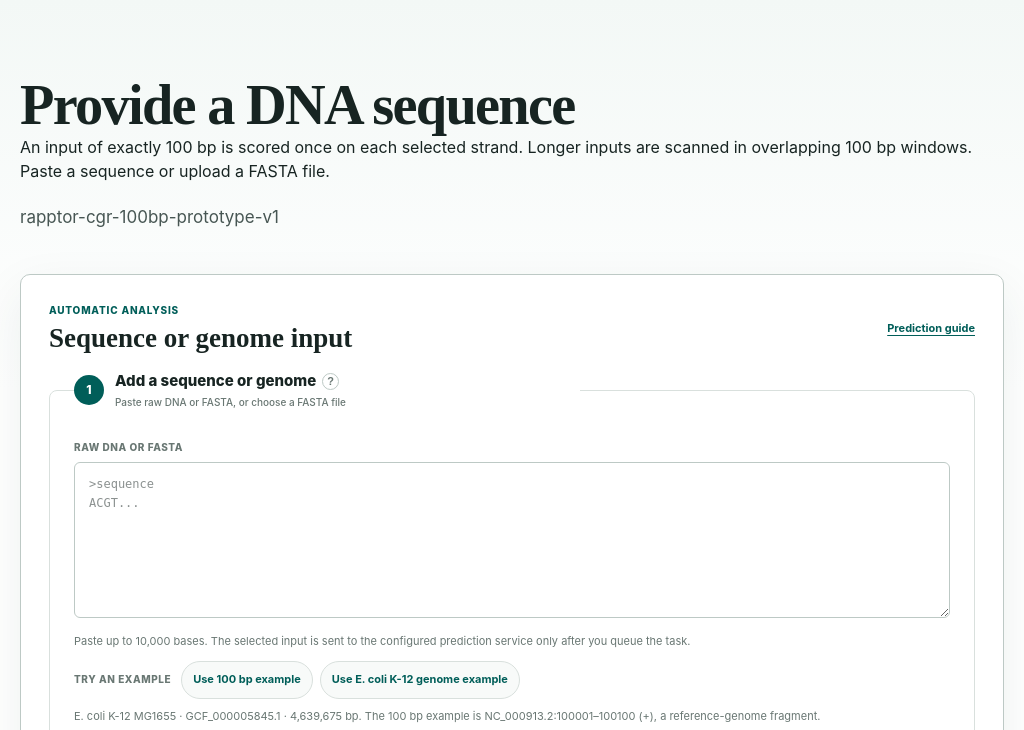
prototype prediction workbench › does not download the complete reference for the 100 bp example
Click the button "Use 100 bp example".
click(247, 680)  # box [181,661,313,699]
(page scrolled)
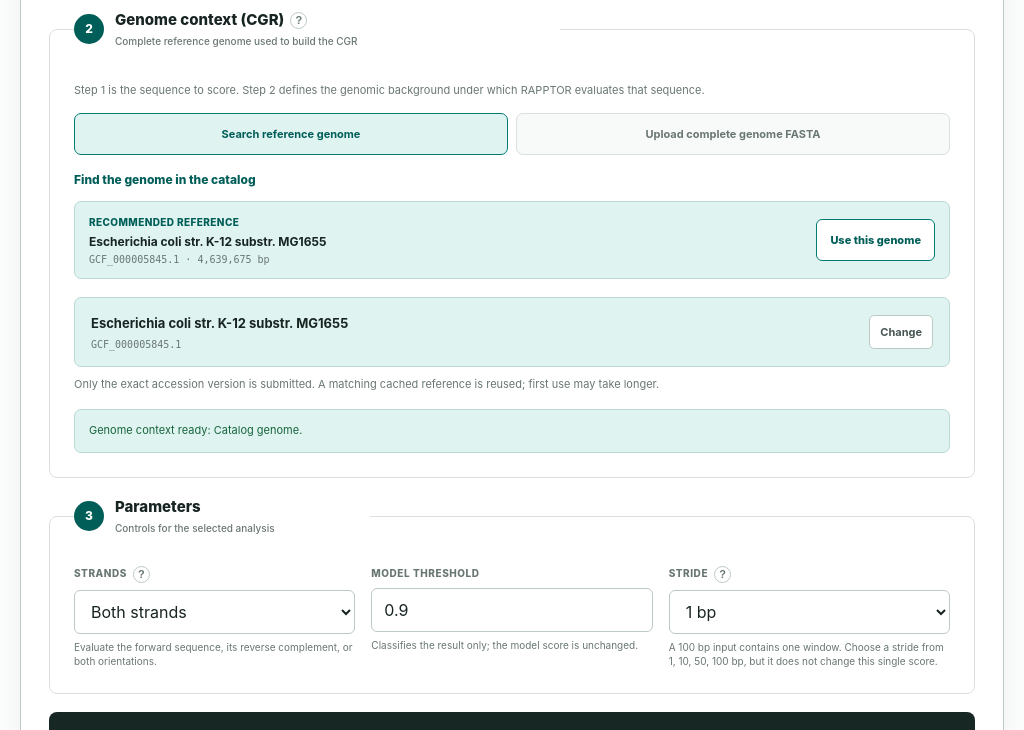
Check: the text "Only the exact accession version is submitted. A matching cached reference is reused; first use may take longer." is shown, box [74,377,659,391]
